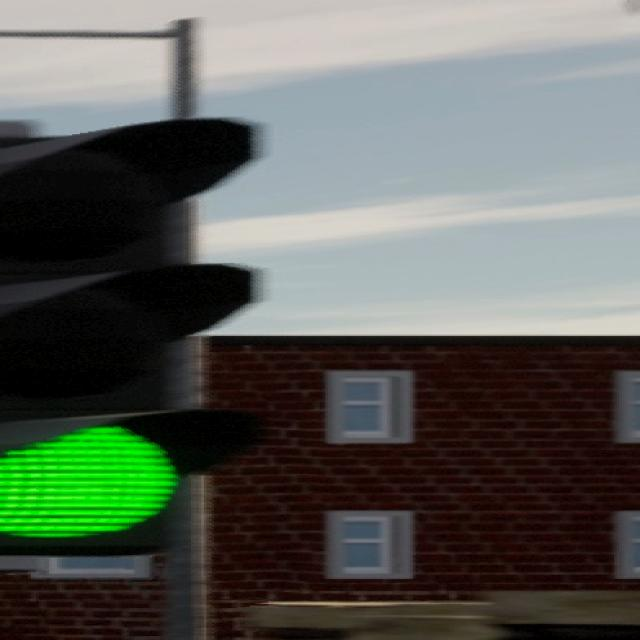green_light: (2, 110, 260, 555)
